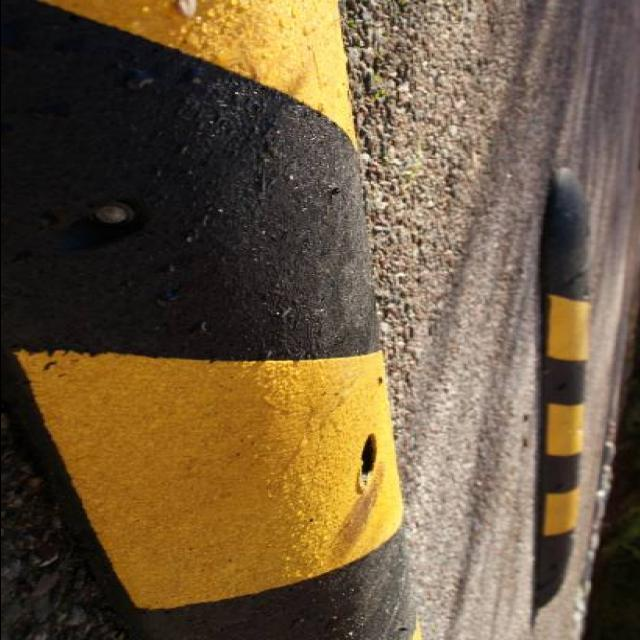speedbreaker: (5, 0, 425, 639), (528, 166, 596, 616)
